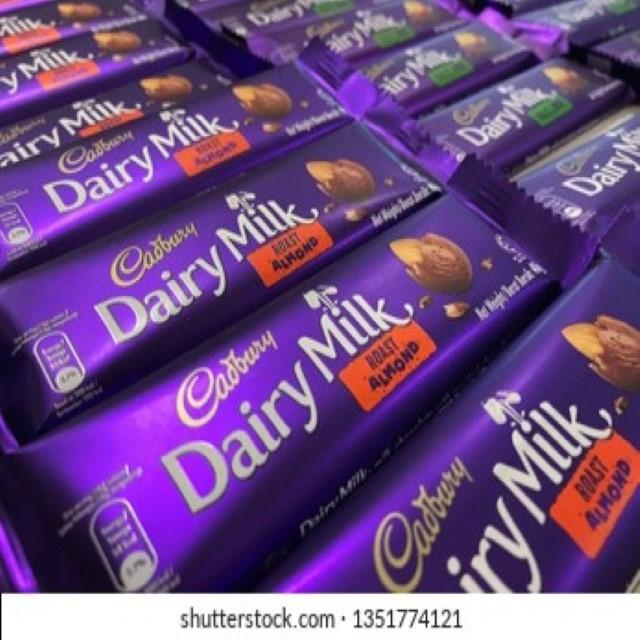cadbury_chocolate: (15, 183, 567, 630), (0, 113, 452, 415), (257, 265, 640, 592), (0, 48, 337, 290), (0, 38, 250, 173), (407, 45, 637, 185), (0, 8, 188, 120), (503, 92, 640, 237), (235, 3, 485, 80), (330, 20, 525, 108)
